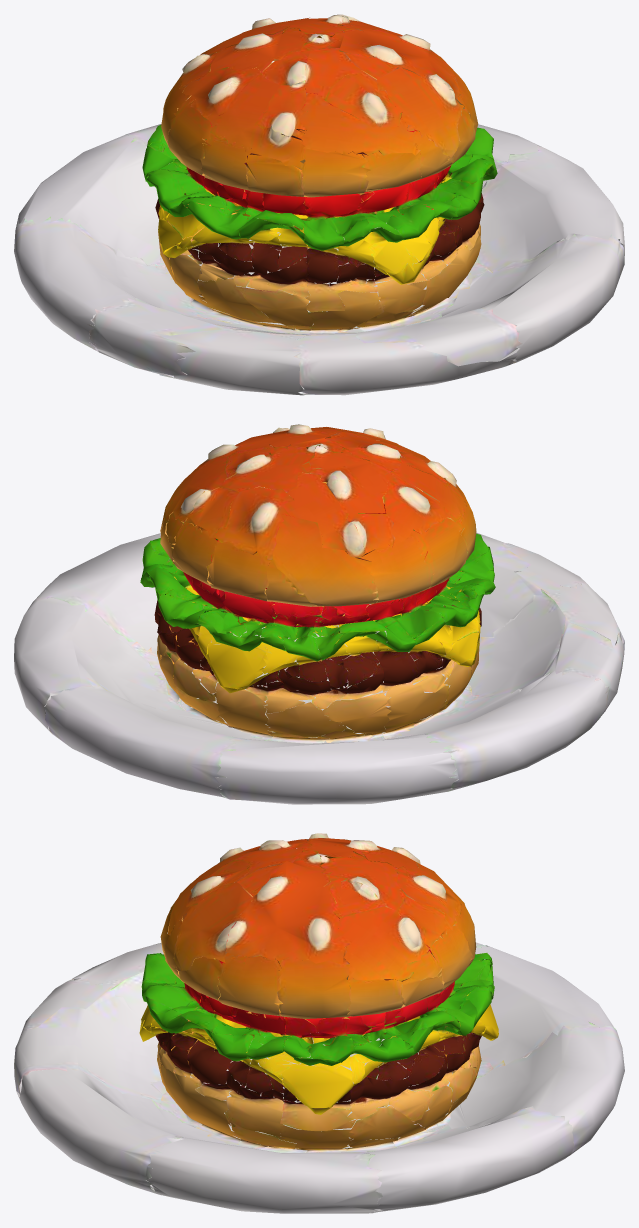
The model's file is cheeseburger.glb.
3 views of the same model, one above another, from view 1: azimuth 30°, elevation 25°; view 2: azimuth 150°, elevation 25°; view 3: azimuth 270°, elevation 25° (orthographic).
Visible parts, largest first — view 1: Mesh_0; view 2: Mesh_0; view 3: Mesh_0.
Part boxes in pixels (<box>): Mesh_0: <box>14,14,624,395</box>; Mesh_0: <box>14,424,624,804</box>; Mesh_0: <box>14,833,624,1213</box>.
Bounding box in the file's own units: 0.9982 × 0.4445 × 1.
Materials: 1 (1 with a texture image).
